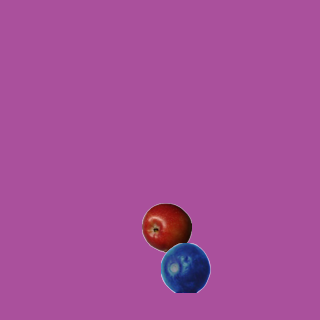Apple Braeburn: (141, 202, 191, 252)
Huckleberry: (160, 242, 210, 292)
